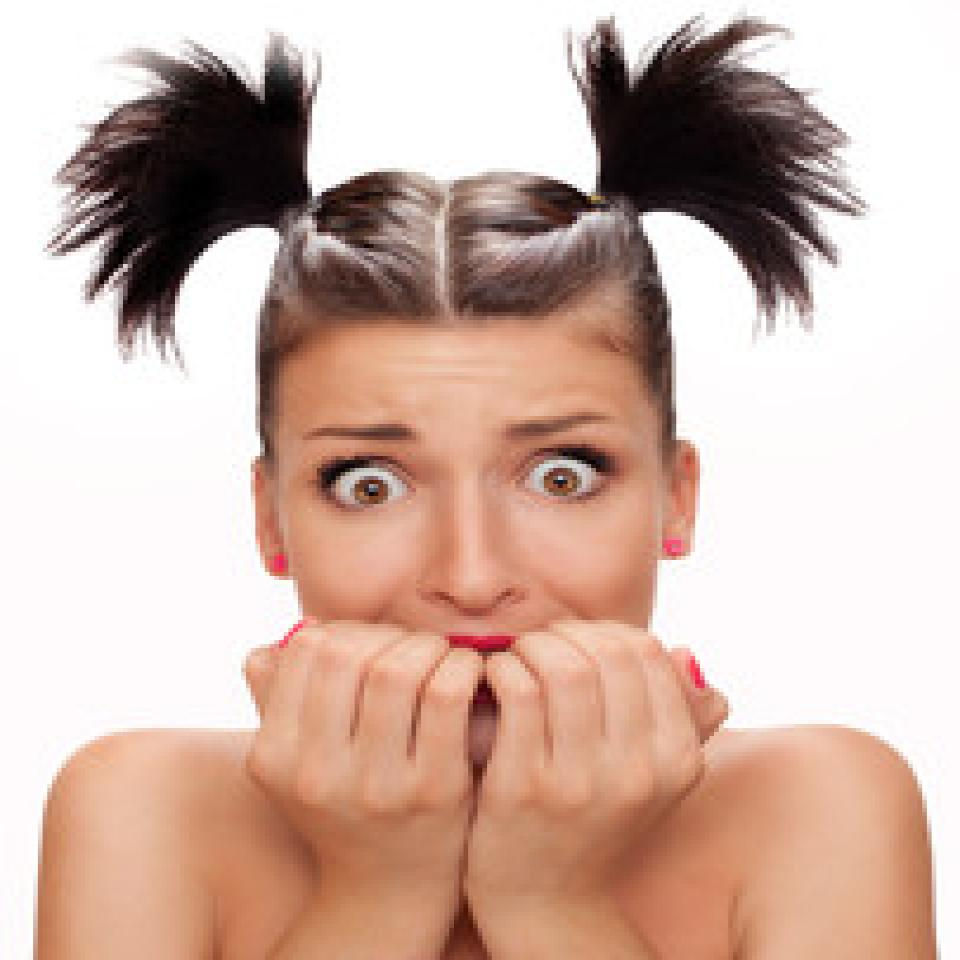Scared: (288, 378, 654, 706)
